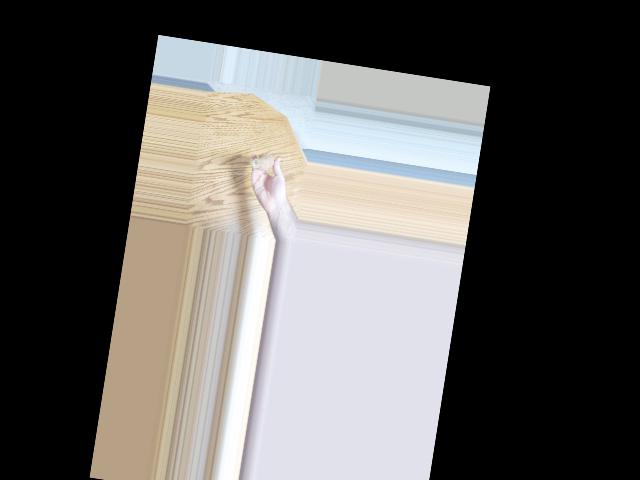sweet_potato: (250, 144, 279, 172)
